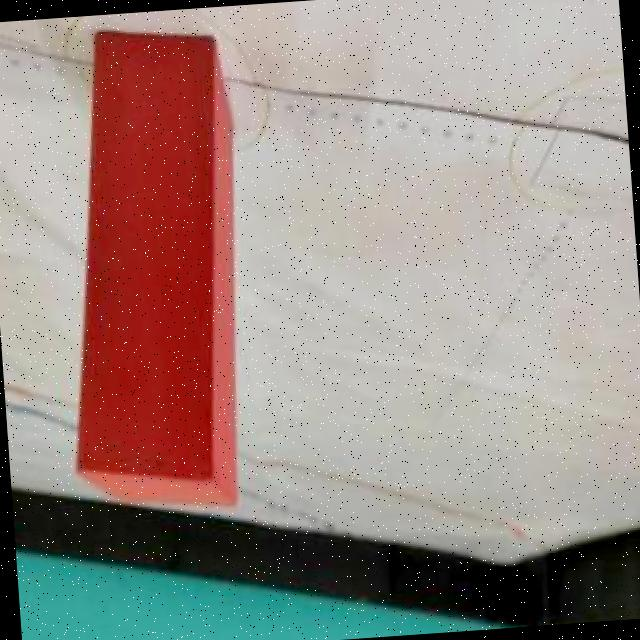redbox: (44, 23, 262, 523)
